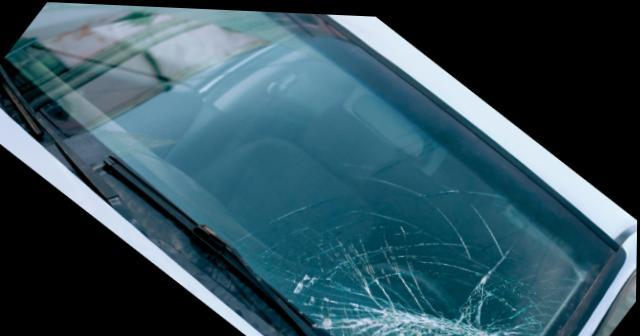glass shatter: (0, 2, 615, 336)
